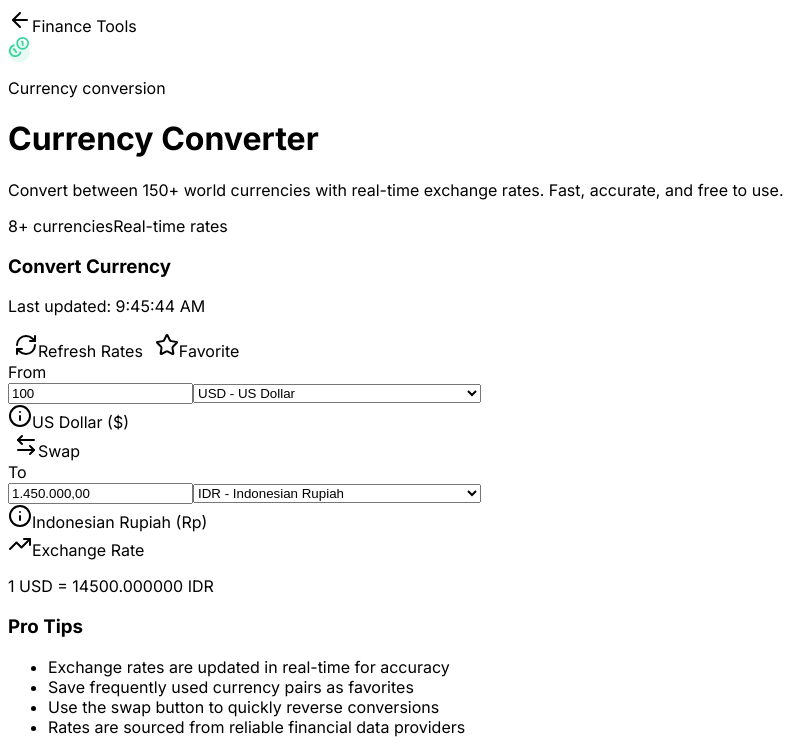
Test case: Currency Converter Page › Swap Currencies › swaps currencies when swap button is clicked
What coordinates should you click on to do the following:
click the button "Swap"
I would click on:
 (47, 447)
Its box is [8,432,86,462].
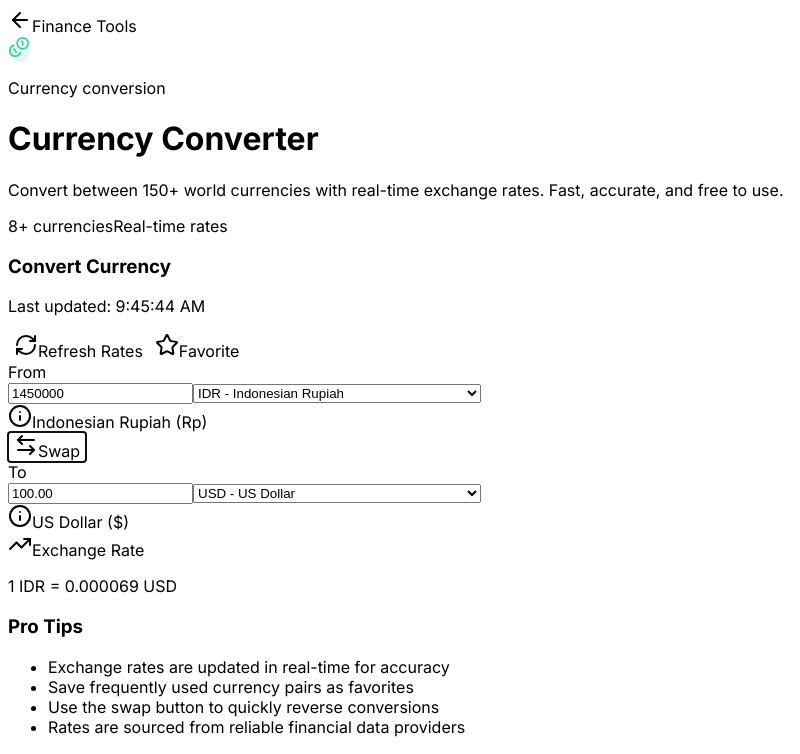
Expected: the 1st dropdown shows "IDR - Indonesian Rupiah", [193,384,481,403]
Expected: the 2nd dropdown shows "USD - US Dollar", [193,484,481,503]
